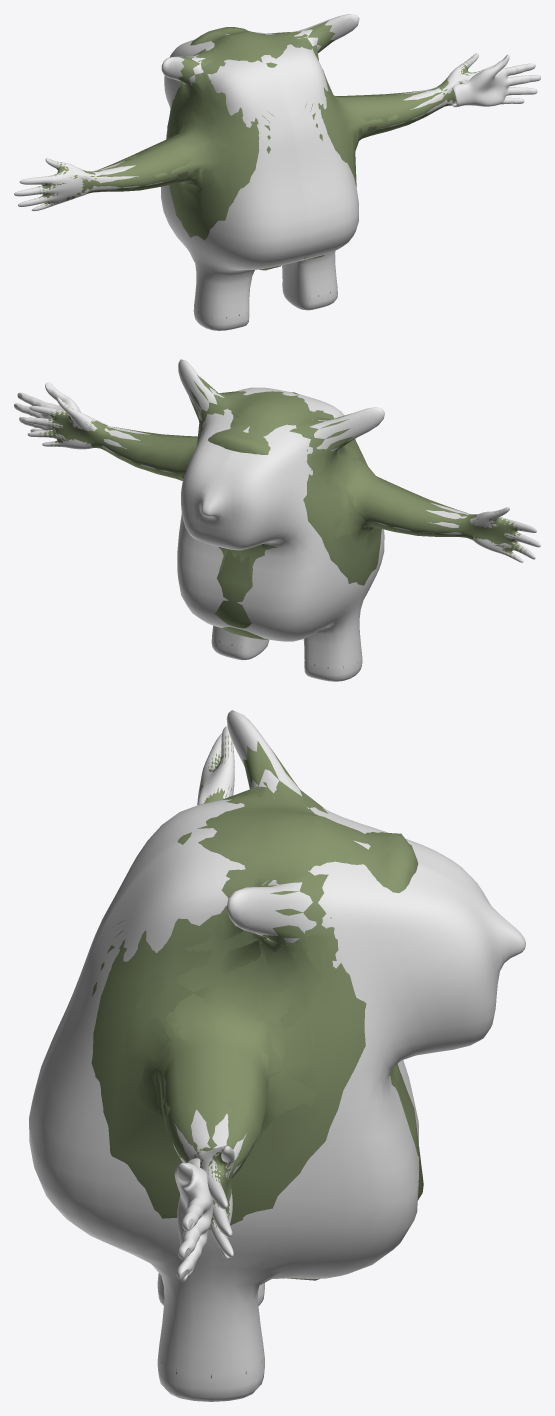
File: elgoblin-02.fbx
The picture shows the model from 3 angles, top to bottom: view 1: azimuth 30°, elevation 25°; view 2: azimuth 150°, elevation 25°; view 3: azimuth 270°, elevation 25°; orthographic projection. The views are drawn at different scales.
Parts seen in each view (by area): view 1: goblino-body01, goblino-body-02, goblino-body-03, Retopo_goblino-body-04, hands; view 2: goblino-body01, goblino-body-02, goblino-body-03, Retopo_goblino-body-04, hands; view 3: goblino-body01, goblino-body-02, goblino-body-03, Retopo_goblino-body-04, hands.
Boxes of the visible parts, x1=… form: goblino-body01: x1=14, y1=14, x2=494, y2=330; goblino-body-02: x1=34, y1=20, x2=482, y2=328; goblino-body-03: x1=41, y1=27, x2=468, y2=270; Retopo_goblino-body-04: x1=43, y1=30, x2=469, y2=203; hands: x1=452, y1=54, x2=540, y2=107; goblino-body01: x1=23, y1=359, x2=540, y2=681; goblino-body-02: x1=34, y1=375, x2=529, y2=679; goblino-body-03: x1=47, y1=391, x2=518, y2=618; Retopo_goblino-body-04: x1=53, y1=392, x2=517, y2=576; hands: x1=14, y1=382, x2=100, y2=432; goblino-body01: x1=29, y1=710, x2=525, y2=1401; goblino-body-02: x1=91, y1=735, x2=423, y2=1398; goblino-body-03: x1=122, y1=759, x2=418, y2=1220; Retopo_goblino-body-04: x1=136, y1=766, x2=413, y2=1212; hands: x1=174, y1=1158, x2=213, y2=1281.
Bounding box in the file's own units: 1405 × 708 × 587.
